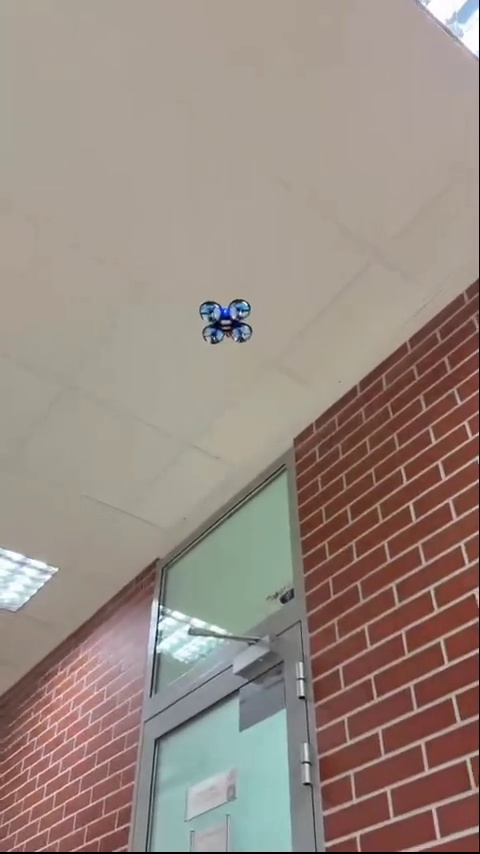drone: (198, 298, 253, 345)
